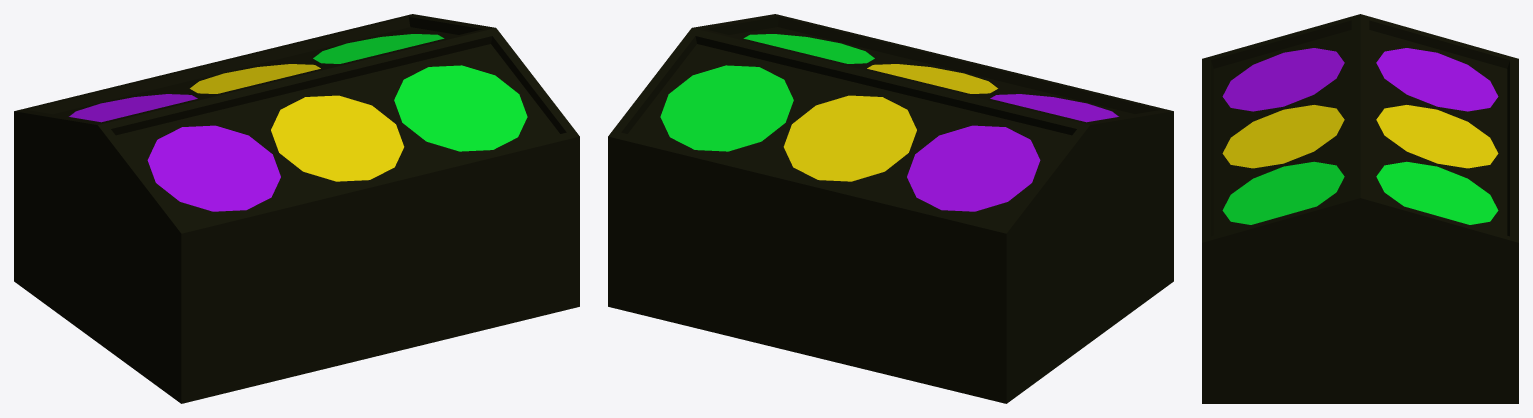
File: StandDiscosNivel2_low.fbx
3 views of the same model, side by side, from view 1: azimuth 30°, elevation 25°; view 2: azimuth 150°, elevation 25°; view 3: azimuth 270°, elevation 25° (orthographic). The views are drawn at different scales.
Parts seen in each view (by area): view 1: StandDiscosNivel2_low, Disco3Nivel2_low, Disco2Nivel2_low, Disco1Nivel2_low; view 2: StandDiscosNivel2_low, Disco3Nivel2_low, Disco2Nivel2_low, Disco1Nivel2_low; view 3: StandDiscosNivel2_low, Disco1Nivel2_low, Disco2Nivel2_low, Disco3Nivel2_low.
Boxes of the visible parts, x1,y1,x2,y2 form: StandDiscosNivel2_low: (14, 14, 579, 403); Disco3Nivel2_low: (313, 34, 527, 151); Disco2Nivel2_low: (190, 64, 404, 181); Disco1Nivel2_low: (69, 94, 280, 211); StandDiscosNivel2_low: (608, 14, 1173, 403); Disco3Nivel2_low: (660, 34, 874, 151); Disco2Nivel2_low: (783, 64, 997, 181); Disco1Nivel2_low: (907, 94, 1118, 211); StandDiscosNivel2_low: (1202, 14, 1518, 403); Disco1Nivel2_low: (1222, 48, 1498, 111); Disco2Nivel2_low: (1222, 105, 1498, 168); Disco3Nivel2_low: (1222, 161, 1498, 224).
Size of the model in its own units: 92.84 by 48.44 by 67.56.
